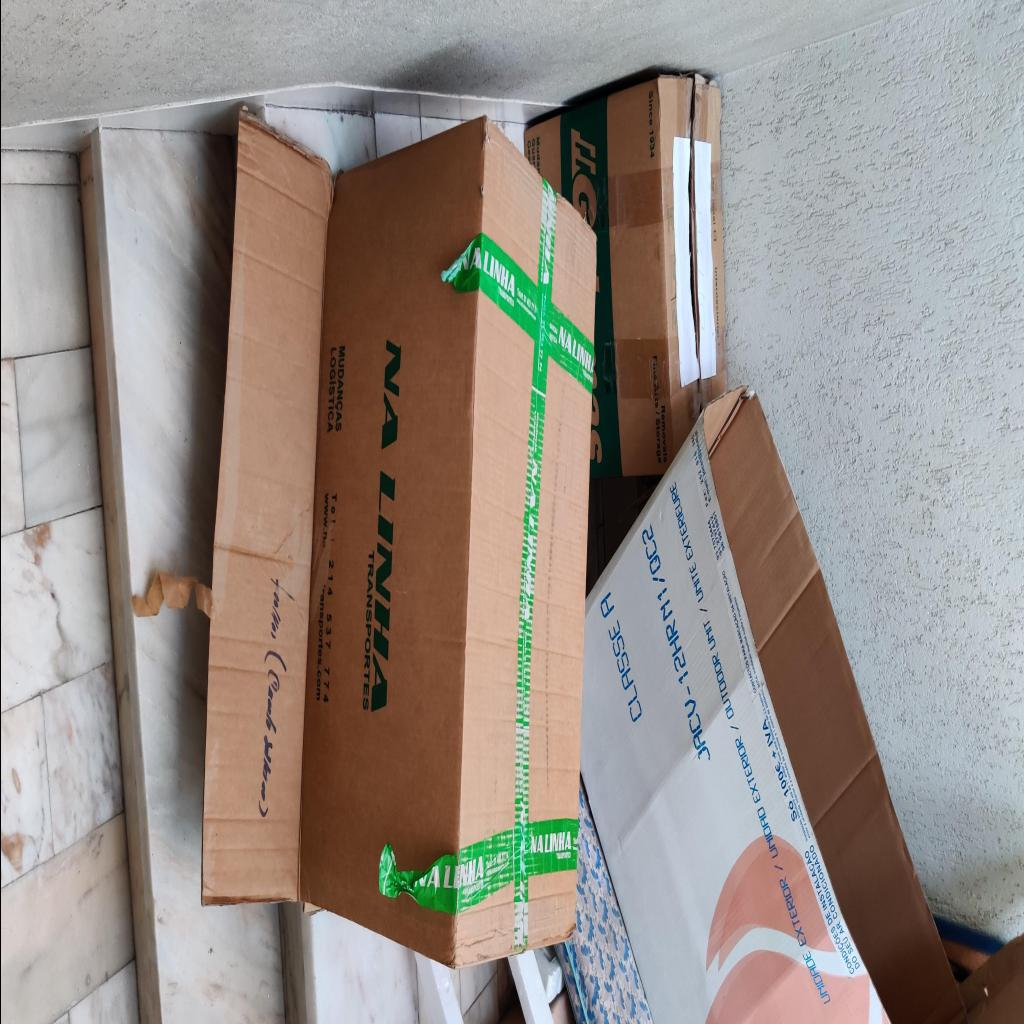Corrugated carton: (201, 109, 595, 969), (552, 386, 966, 1023), (523, 74, 727, 478)
Styrofoam piece: (506, 948, 554, 1022), (532, 944, 562, 1002)
